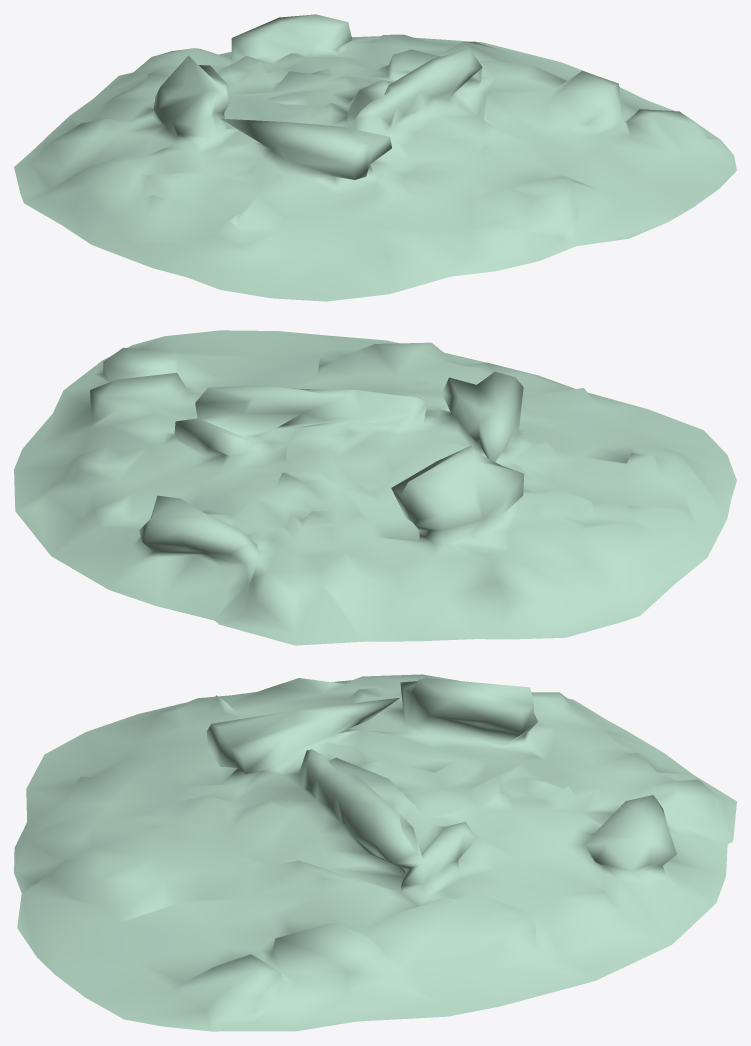
The model's file is SM_Kamp_Atesi.fbx.
3 renders of one model, top to bottom at view 1: azimuth 30°, elevation 25°; view 2: azimuth 150°, elevation 25°; view 3: azimuth 270°, elevation 25°, orthographic. The views are drawn at different scales.
Visible parts, largest first — view 1: OBJ_Kamp_Atesi; view 2: OBJ_Kamp_Atesi; view 3: OBJ_Kamp_Atesi.
Boxes of the visible parts, x1,y1,x2,y2 form: OBJ_Kamp_Atesi: (14, 14, 736, 301); OBJ_Kamp_Atesi: (14, 330, 736, 645); OBJ_Kamp_Atesi: (14, 674, 736, 1031).
Size of the model in its own units: 389 by 56.74 by 341.
